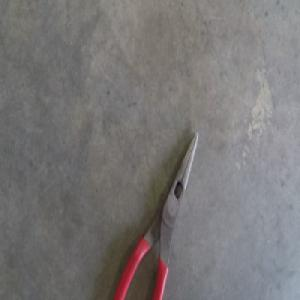Pliers: (113, 131, 198, 298)
